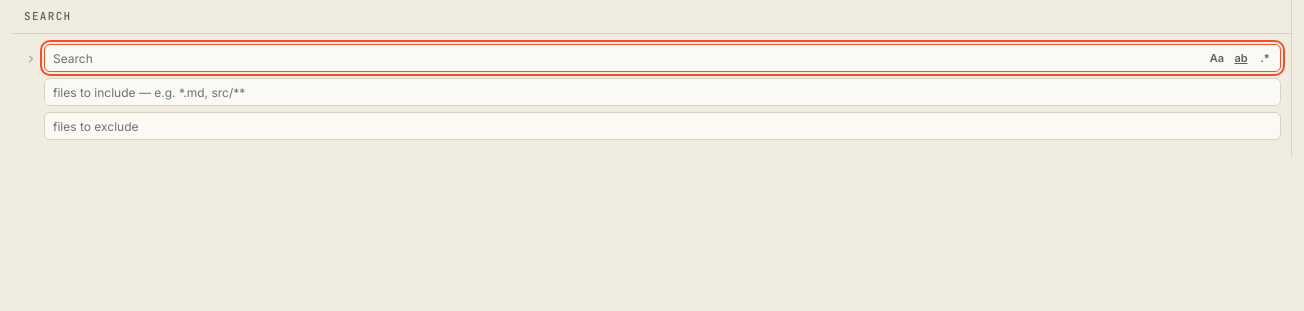
Test: <SearchPanel /> › searches as you type and groups matches by file
In the field with placeholder "Search": [628, 58] box x1=53 y1=45 x2=1202 y2=71, type "void"
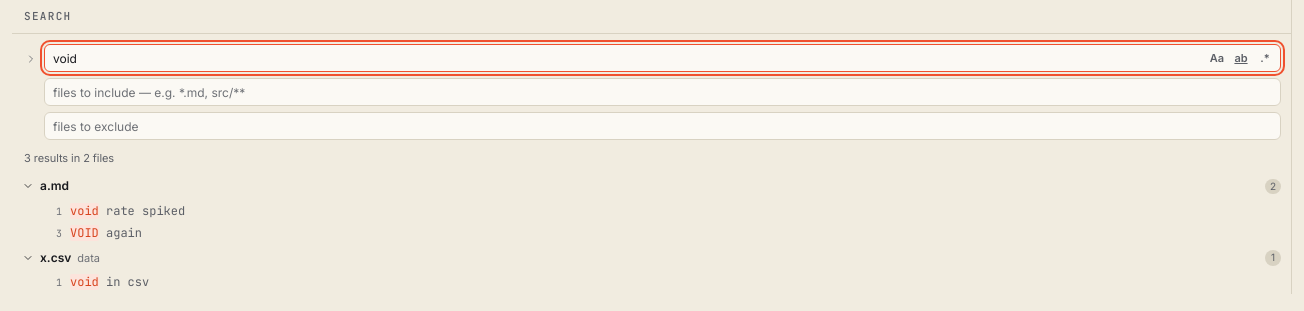
Expected: the text "a.md" is shown, x1=40 y1=177 x2=69 y2=196
Expected: the text "x.csv" is shown, x1=40 y1=249 x2=71 y2=268
Expected: the text "3 results in 2 files" is shown, x1=24 y1=151 x2=114 y2=165
